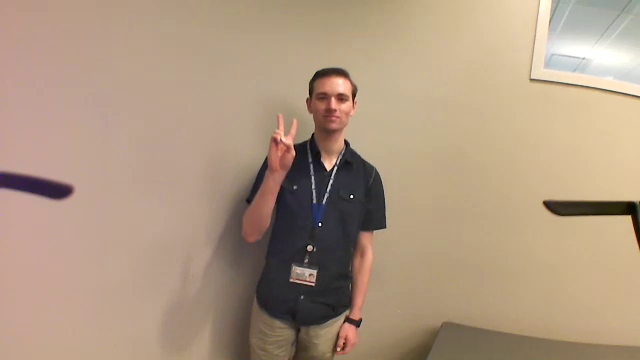peace: (263, 111, 303, 176)
